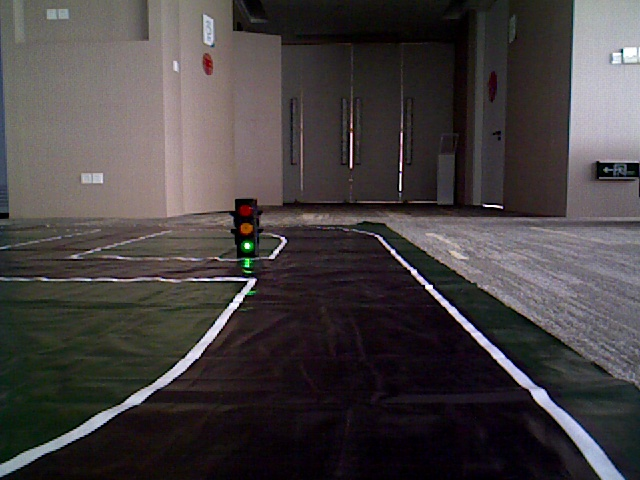green: (236, 198, 259, 252)
